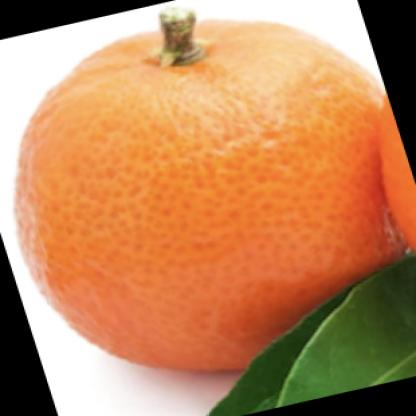fresh: (12, 20, 399, 372)
